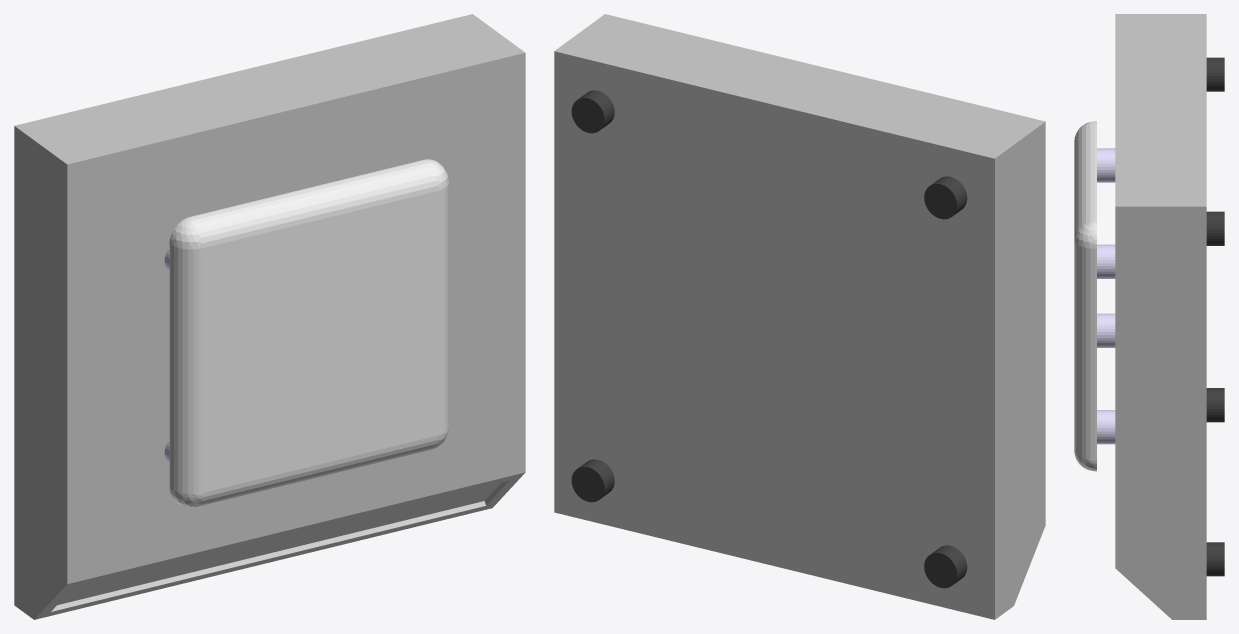
File: scale.obj
The picture shows the model from 3 angles, left to right: view 1: azimuth 30°, elevation 25°; view 2: azimuth 150°, elevation 25°; view 3: azimuth 270°, elevation 25°; orthographic projection. The views are drawn at different scales.
Parts seen in each view (by area): view 1: b_scale_body_2_001_, b_scale_hot_plate_001_; view 2: b_scale_body_2_001_, b_scale_standoffs_001_, b_scale_standoffs_001_003, b_scale_standoffs_001_002, b_scale_standoffs_001_001; view 3: b_scale_body_2_001_, b_scale_hot_plate_001_, b_scale_standoffs_001_007, b_scale_standoffs_001_, b_scale_standoffs_001_003, b_scale_standoffs_001_002, b_scale_standoffs_001_001, b_scale_standoffs_001_006, b_scale_standoffs_001_004, b_scale_standoffs_001_005.
Part boxes in pixels (x1,y1,x2,y2): b_scale_body_2_001_: (14, 14, 525, 619); b_scale_hot_plate_001_: (169, 159, 448, 507); b_scale_body_2_001_: (554, 14, 1045, 619); b_scale_standoffs_001_: (571, 90, 614, 133); b_scale_standoffs_001_003: (571, 459, 614, 502); b_scale_standoffs_001_002: (924, 545, 967, 588); b_scale_standoffs_001_001: (924, 176, 967, 219); b_scale_body_2_001_: (1115, 14, 1206, 619); b_scale_hot_plate_001_: (1074, 121, 1096, 471); b_scale_standoffs_001_007: (1097, 148, 1115, 182); b_scale_standoffs_001_: (1206, 211, 1224, 245); b_scale_standoffs_001_003: (1206, 542, 1224, 576); b_scale_standoffs_001_002: (1206, 388, 1224, 422); b_scale_standoffs_001_001: (1206, 57, 1224, 91); b_scale_standoffs_001_006: (1097, 313, 1115, 347); b_scale_standoffs_001_004: (1097, 244, 1115, 278); b_scale_standoffs_001_005: (1097, 410, 1115, 444).
Size of the model in its own units: 200 by 200 by 66.
